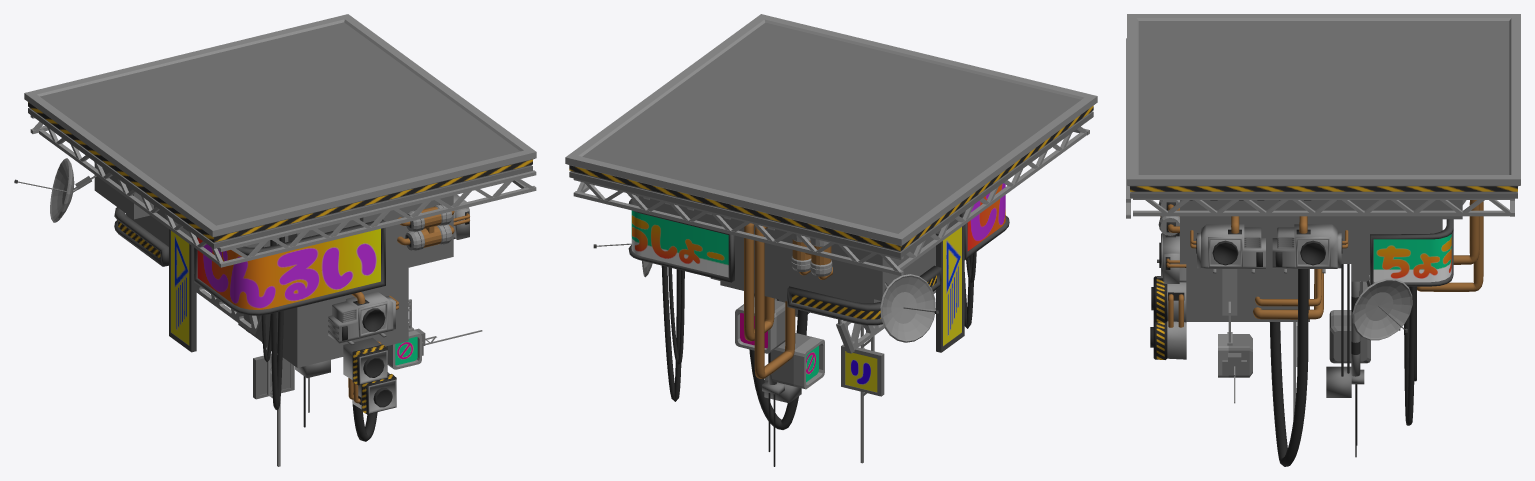
The model's file is neon.glb.
3 views of the same model, side by side, from view 1: azimuth 30°, elevation 25°; view 2: azimuth 150°, elevation 25°; view 3: azimuth 270°, elevation 25° (orthographic). The views are drawn at different scales.
Visible parts, largest first — view 1: Platform_4x4; view 2: Platform_4x4; view 3: Platform_4x4.
Part boxes in pixels (bbox=[...]): Platform_4x4: bbox=[14, 14, 536, 466]; Platform_4x4: bbox=[565, 14, 1097, 466]; Platform_4x4: bbox=[1126, 14, 1520, 466].
Size of the model in its own units: 4.47 by 3.76 by 3.9.
Materials: 6 (1 with a texture image).
